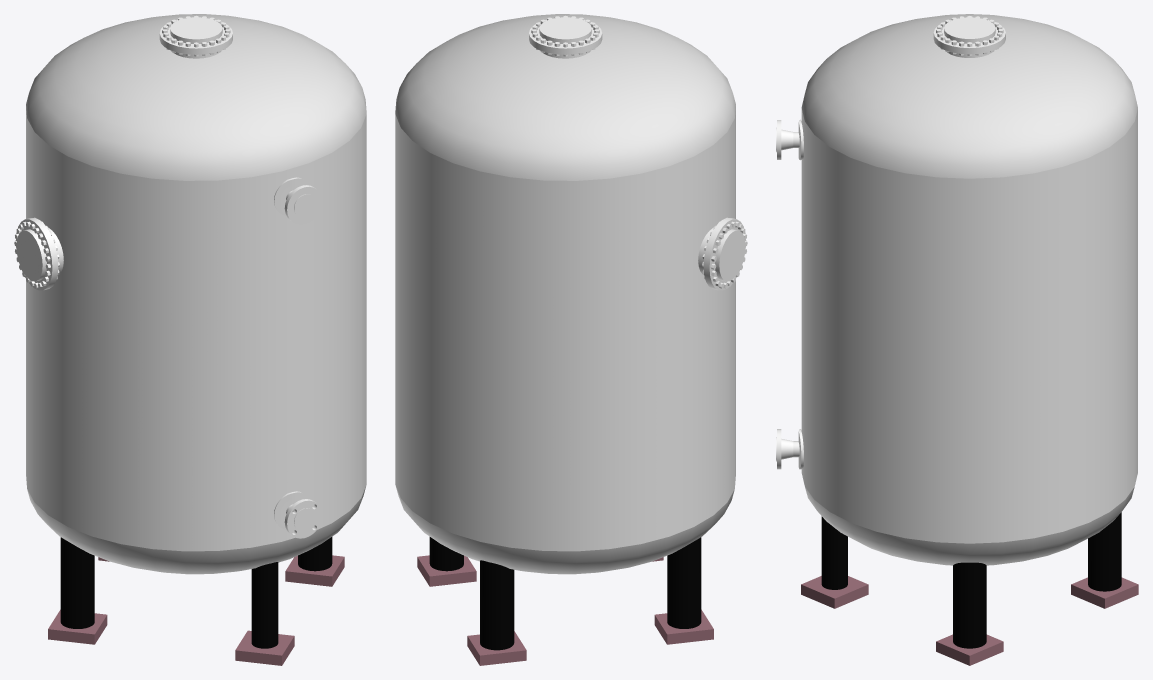
The model's file is CM01-CNP_Scavenger.glb.
3 views of the same model, side by side, from view 1: azimuth 30°, elevation 25°; view 2: azimuth 150°, elevation 25°; view 3: azimuth 270°, elevation 25° (orthographic).
Visible parts, largest first — view 1: 3DGeom-24, 3DGeom-2 (×2), 3DGeom-12, 3DGeom-22, 3DGeom-21, 3DGeom-6, 3DGeom-14 (×2), 3DGeom-11, 3DGeom-5, 3DGeom-9, 3DGeom-10, 3DGeom-20 (+1 smaller); view 2: 3DGeom-24, 3DGeom-2 (×2), 3DGeom-4, 3DGeom-12, 3DGeom-22, 3DGeom-21, 3DGeom-5, 3DGeom-7, 3DGeom-9, 3DGeom-10; view 3: 3DGeom-24, 3DGeom-2 (×2), 3DGeom-10, 3DGeom-21, 3DGeom-4, 3DGeom-6, 3DGeom-11, 3DGeom-9, 3DGeom-7.
Boxes of the visible parts, x1=… form: 3DGeom-24: x1=26, y1=106, x2=366, y2=551; 3DGeom-2 (×2): x1=26, y1=14, x2=366, y2=574; 3DGeom-12: x1=60, y1=537, x2=94, y2=628; 3DGeom-22: x1=14, y1=217, x2=63, y2=290; 3DGeom-21: x1=159, y1=15, x2=232, y2=58; 3DGeom-6: x1=251, y1=562, x2=278, y2=648; 3DGeom-14 (×2): x1=284, y1=185, x2=322, y2=538; 3DGeom-11: x1=235, y1=630, x2=294, y2=665; 3DGeom-5: x1=48, y1=609, x2=107, y2=644; 3DGeom-9: x1=285, y1=555, x2=344, y2=586; 3DGeom-10: x1=298, y1=537, x2=332, y2=571; 3DGeom-20: x1=274, y1=177, x2=308, y2=215; 3DGeom-24: x1=395, y1=106, x2=735, y2=551; 3DGeom-2 (×2): x1=395, y1=14, x2=735, y2=574; 3DGeom-4: x1=480, y1=560, x2=514, y2=650; 3DGeom-12: x1=667, y1=537, x2=701, y2=628; 3DGeom-22: x1=698, y1=217, x2=747, y2=290; 3DGeom-21: x1=529, y1=15, x2=602, y2=58; 3DGeom-5: x1=654, y1=609, x2=713, y2=644; 3DGeom-7: x1=467, y1=631, x2=526, y2=665; 3DGeom-9: x1=417, y1=555, x2=476, y2=586; 3DGeom-10: x1=429, y1=537, x2=463, y2=571; 3DGeom-24: x1=801, y1=109, x2=1137, y2=543; 3DGeom-2 (×2): x1=801, y1=14, x2=1137, y2=565; 3DGeom-10: x1=953, y1=562, x2=986, y2=648; 3DGeom-21: x1=933, y1=16, x2=1005, y2=57; 3DGeom-4: x1=1088, y1=512, x2=1121, y2=591; 3DGeom-6: x1=821, y1=516, x2=847, y2=589; 3DGeom-11: x1=801, y1=576, x2=868, y2=608; 3DGeom-9: x1=936, y1=634, x2=1003, y2=665; 3DGeom-7: x1=1071, y1=577, x2=1138, y2=608.
Size of the model in its own units: 1.6 by 2.79 by 1.62.
